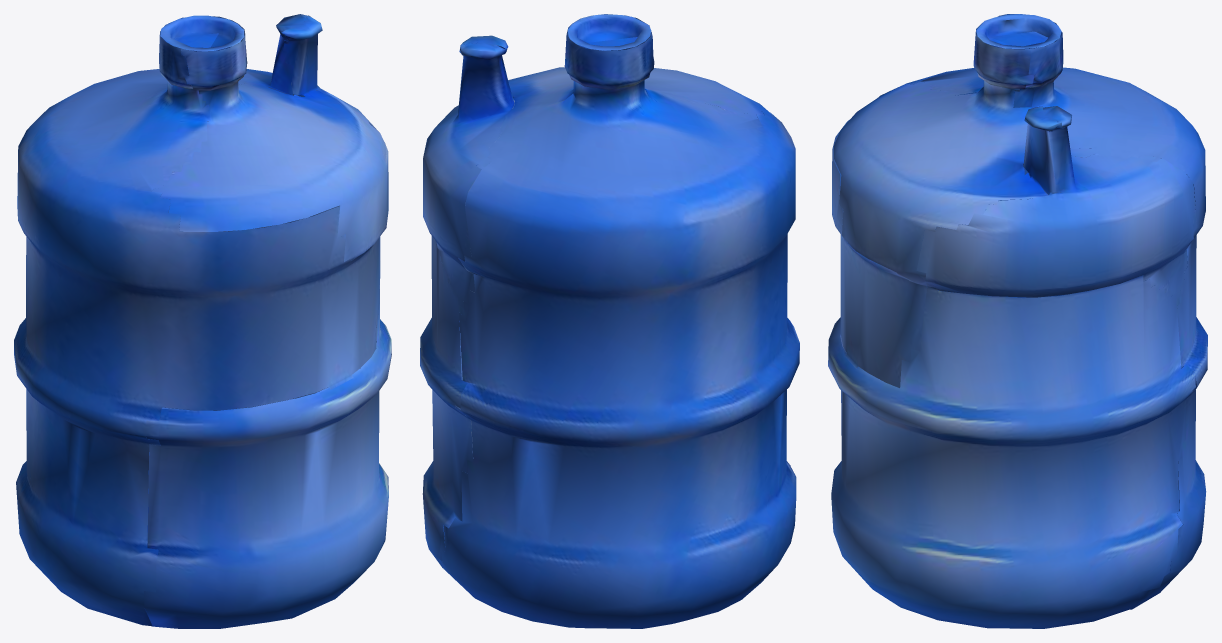
File: galon.glb
The picture shows the model from 3 angles, left to right: view 1: azimuth 30°, elevation 25°; view 2: azimuth 150°, elevation 25°; view 3: azimuth 270°, elevation 25°; orthographic projection.
Visible parts, largest first — view 1: galon; view 2: galon; view 3: galon.
Boxes of the visible parts, x1,y1,x2,y2 form: galon: (14,14,391,628); galon: (420,14,799,628); galon: (828,14,1207,628).
Bounding box in the file's own units: 1.12 × 1.78 × 1.13.
1 material, 1 textured.
